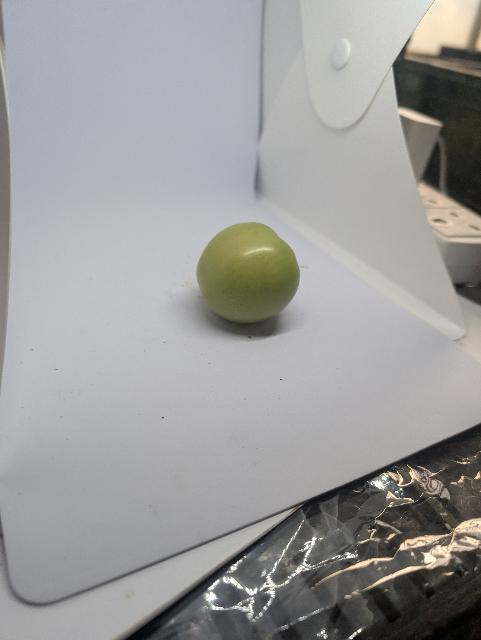green: (195, 219, 303, 326)
